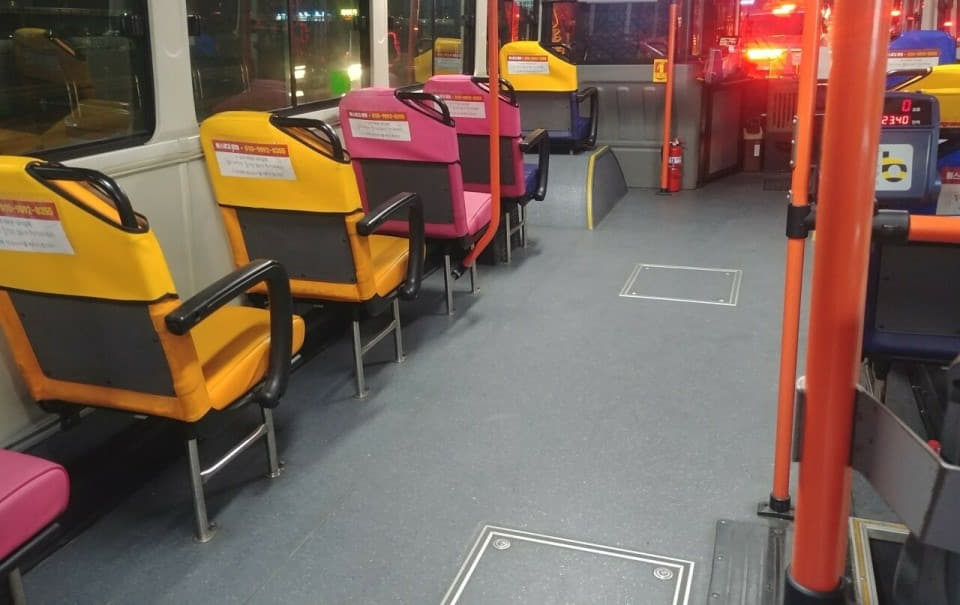seat: (2, 141, 312, 452)
